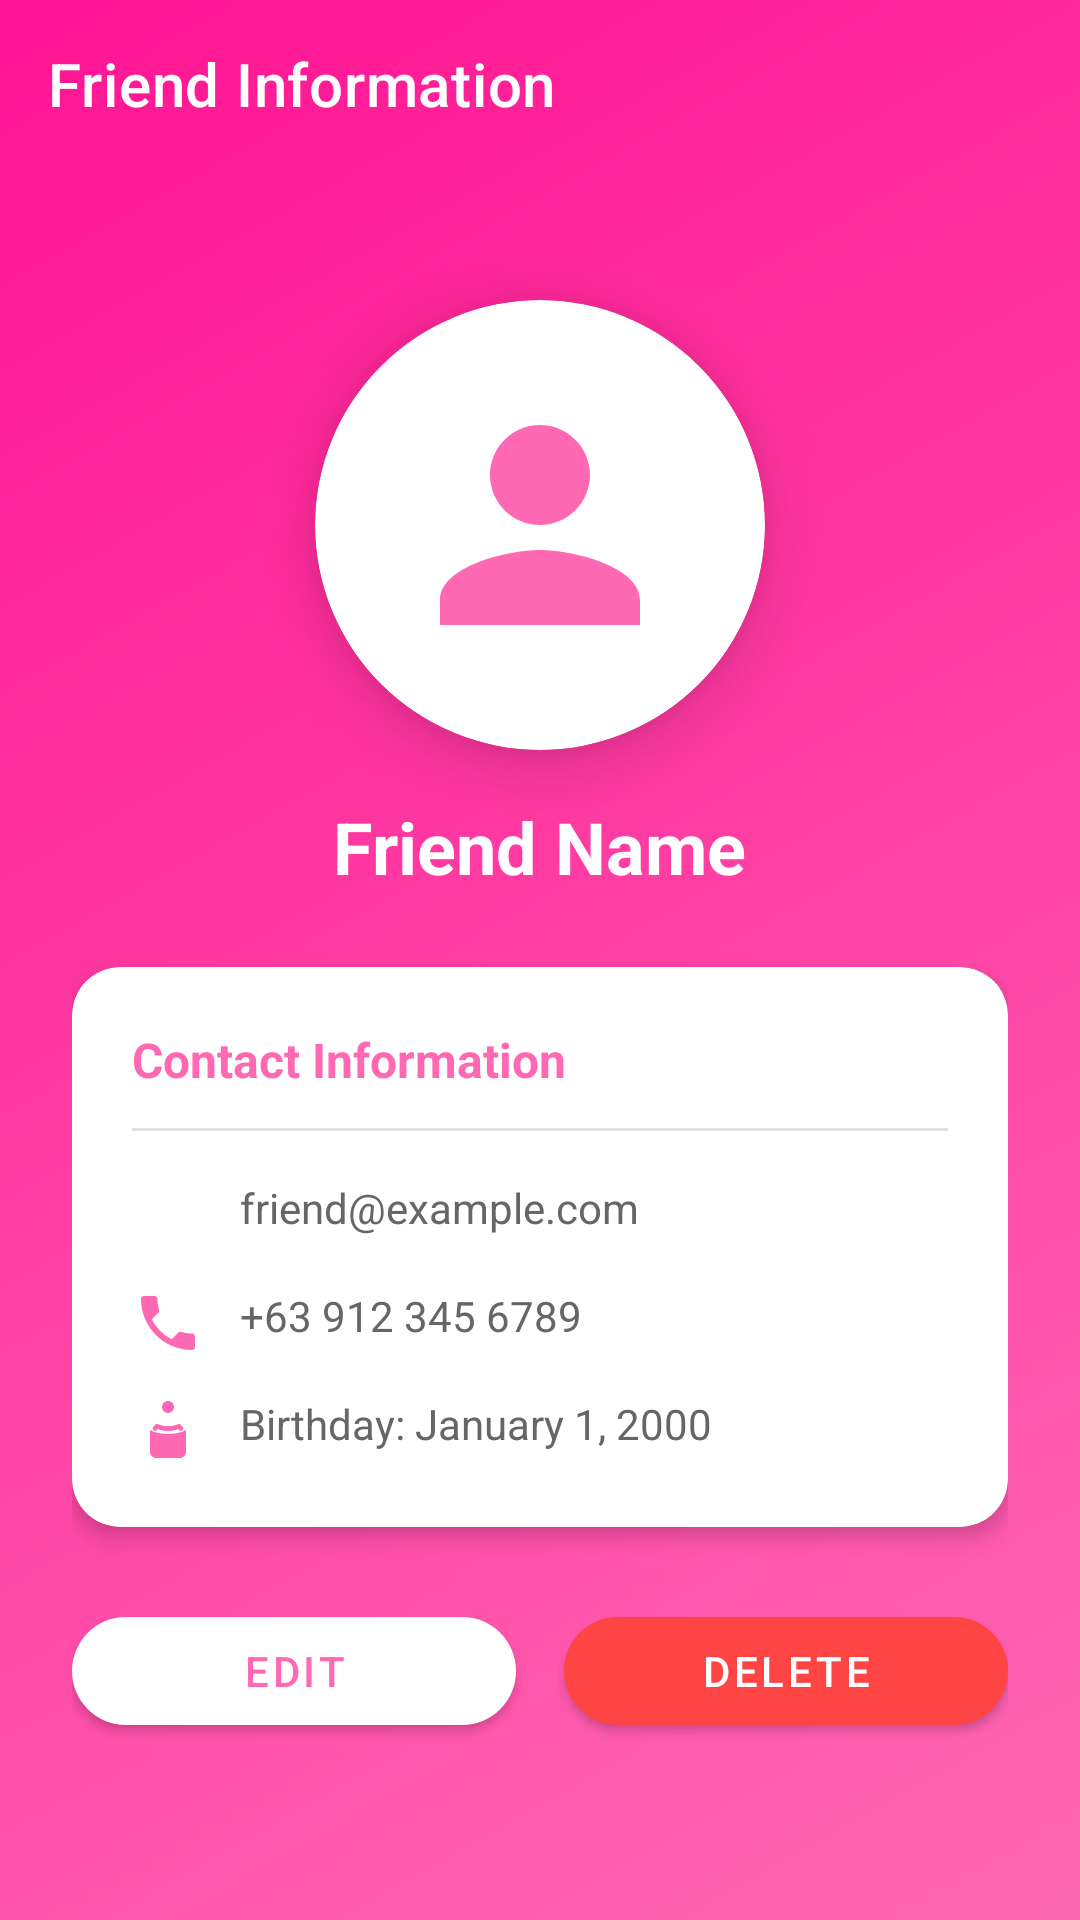

Where to tap for icons on this 1080px×1920px app screen, as (x=x, y=y):
cake: (x=168, y=1429)
phone: (x=168, y=1323)
